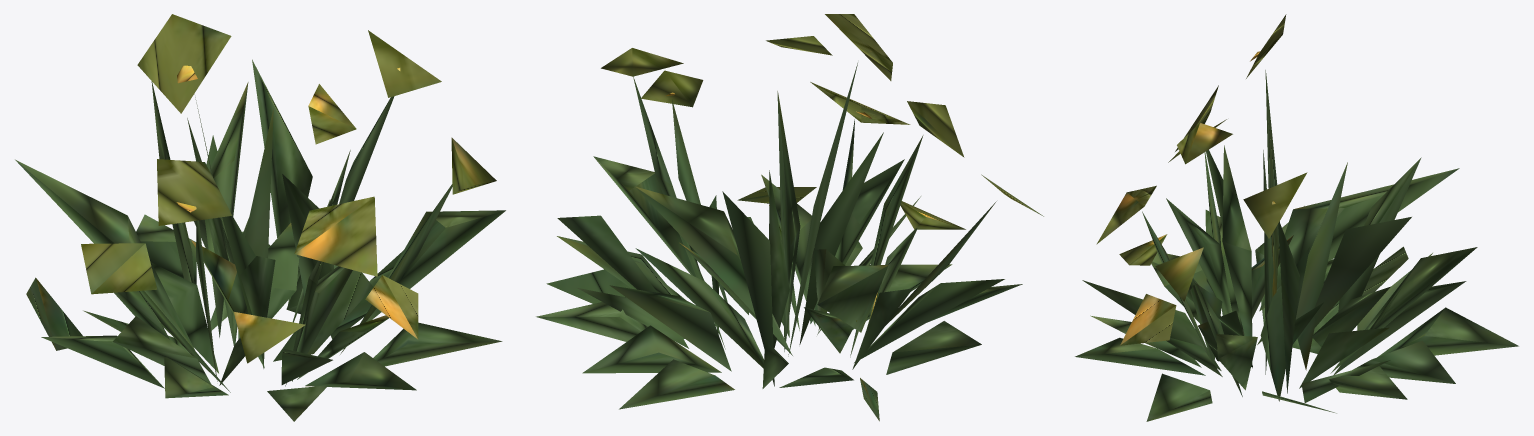
The model's file is s-fleurs-terre-semis.glb.
3 views of the same model, side by side, from view 1: azimuth 30°, elevation 25°; view 2: azimuth 150°, elevation 25°; view 3: azimuth 270°, elevation 25° (orthographic). The views are drawn at different scales.
Parts seen in each view (by area): view 1: s-fleurs-terre-semis; view 2: s-fleurs-terre-semis; view 3: s-fleurs-terre-semis.
Part boxes in pixels (x1=…): s-fleurs-terre-semis: x1=15, y1=14, x2=505, y2=421; s-fleurs-terre-semis: x1=536, y1=14, x2=1043, y2=421; s-fleurs-terre-semis: x1=1075, y1=14, x2=1518, y2=421.
Size of the model in its own units: 1.99 by 1.61 by 1.98.
1 material, 1 textured.
